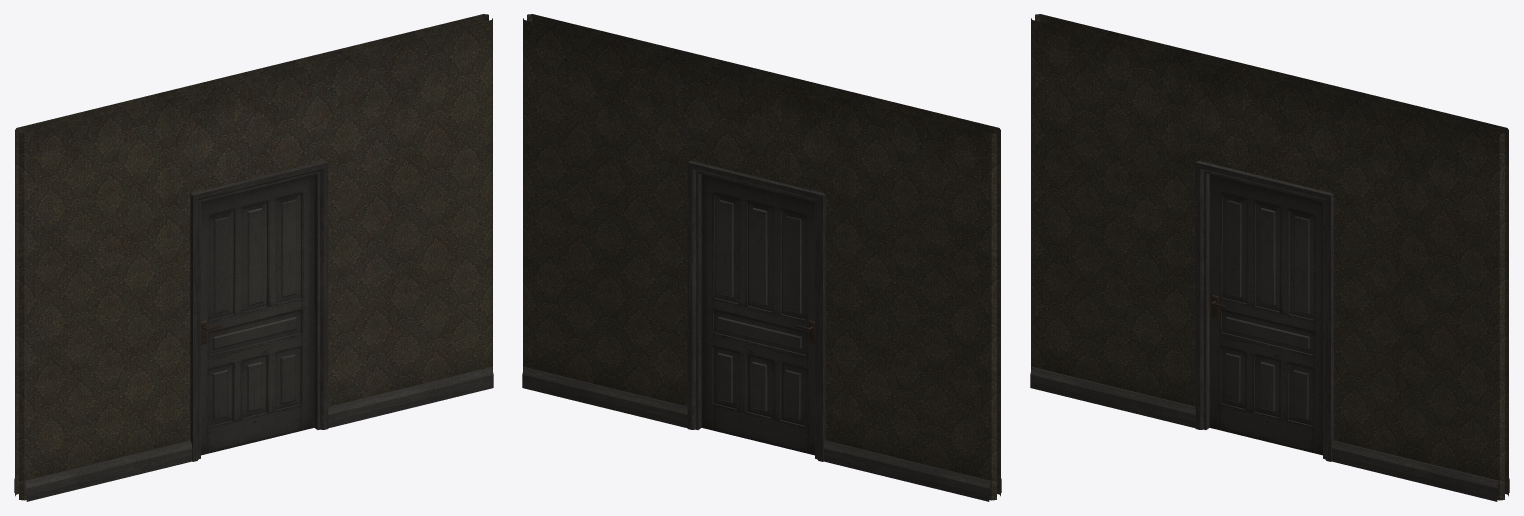
Rendered from doorway_2_1.dae.
3 renders of one model, left to right at view 1: azimuth 30°, elevation 25°; view 2: azimuth 150°, elevation 25°; view 3: azimuth 330°, elevation 25°, orthographic.
Visible parts, largest first — view 1: doorway_2_1, door_1; view 2: doorway_2_1, door_1; view 3: doorway_2_1, door_1.
Boxes of the visible parts, box(x1,y1,x2,y2) form: doorway_2_1: box(14, 14, 493, 501); door_1: box(201, 174, 314, 455); doorway_2_1: box(522, 14, 1001, 501); door_1: box(701, 174, 814, 455); doorway_2_1: box(1030, 14, 1509, 501); door_1: box(1209, 174, 1322, 455).
Bounding box in the file's own units: 4.06 × 0.2 × 3.
4 materials, 4 textured.
